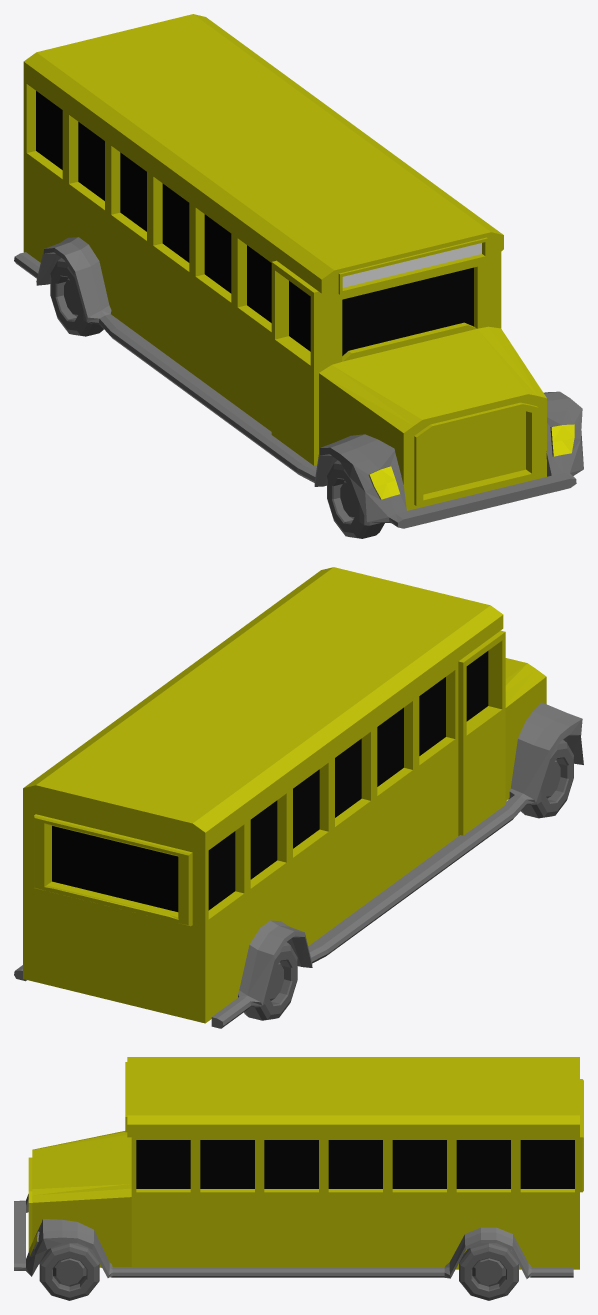
Rendered from Buss_projektveckor.fbx.
3 renders of one model, top to bottom at view 1: azimuth 30°, elevation 25°; view 2: azimuth 150°, elevation 25°; view 3: azimuth 270°, elevation 25°, orthographic. The views are drawn at different scales.
Visible parts, largest first — view 1: polySurface7; view 2: polySurface7; view 3: polySurface7.
Part boxes in pixels (x1=…): polySurface7: x1=14, y1=14, x2=583, y2=538; polySurface7: x1=14, y1=567, x2=583, y2=1028; polySurface7: x1=14, y1=1057, x2=583, y2=1300.
Size of the model in its own units: 6.42 by 6.2 by 18.07.
